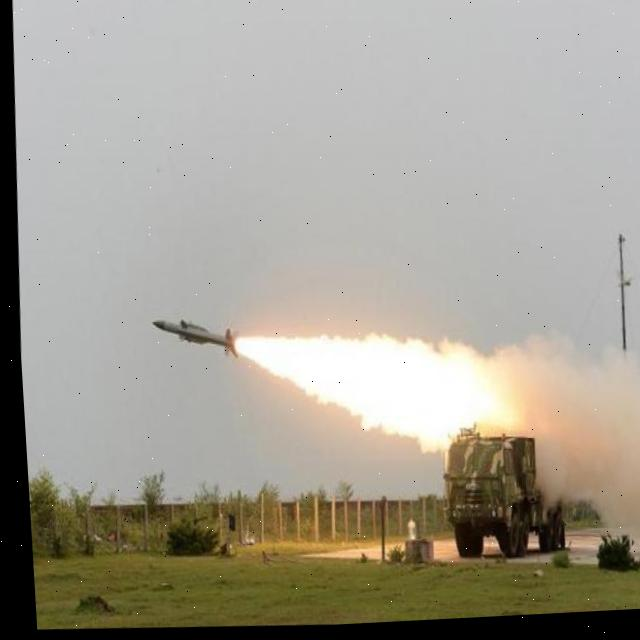missile: (141, 311, 233, 361)
